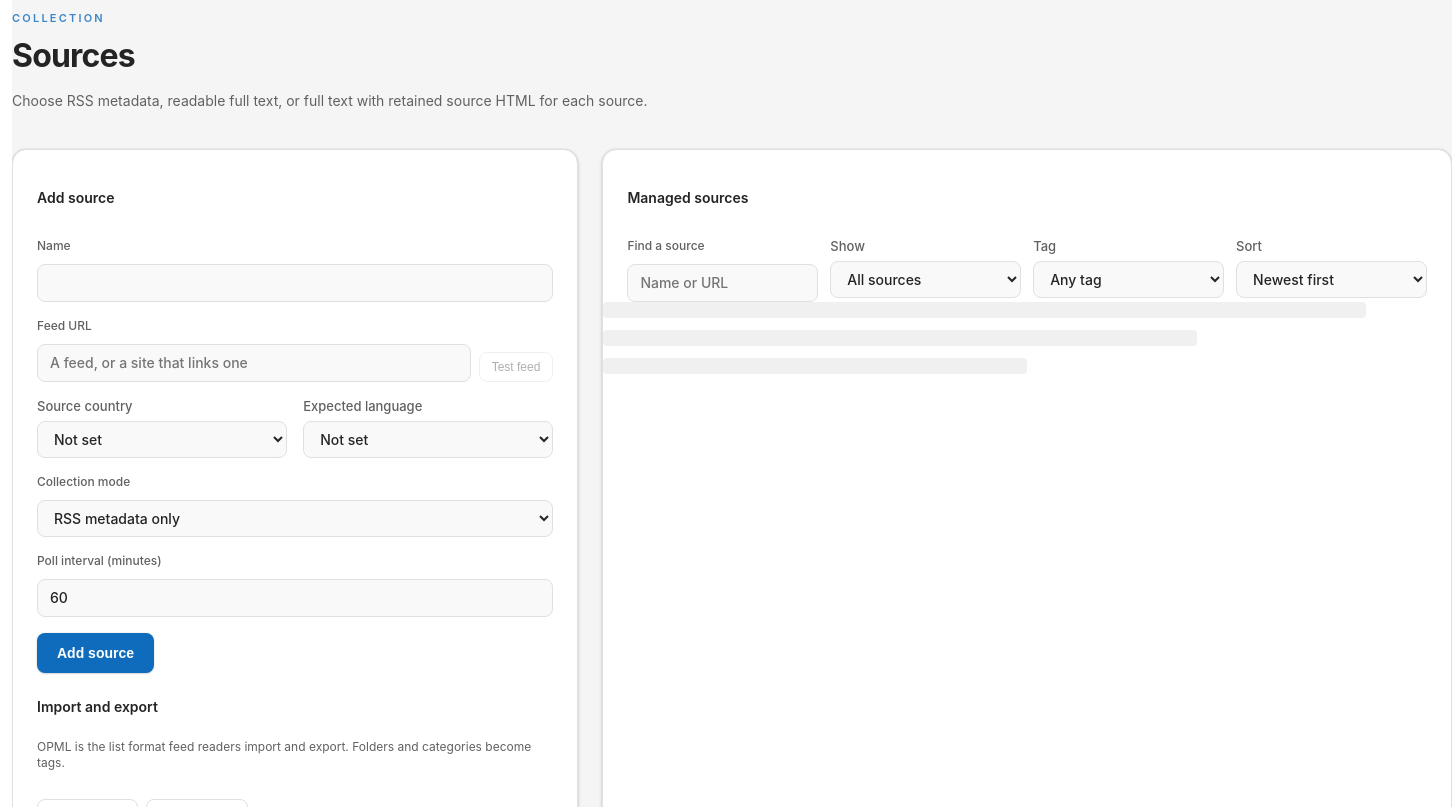
it: says why a feed address did not work
Type "https://news.example/nothing" into the field labelled "Feed URL" at (254, 363), box 37,344 -> 471,382
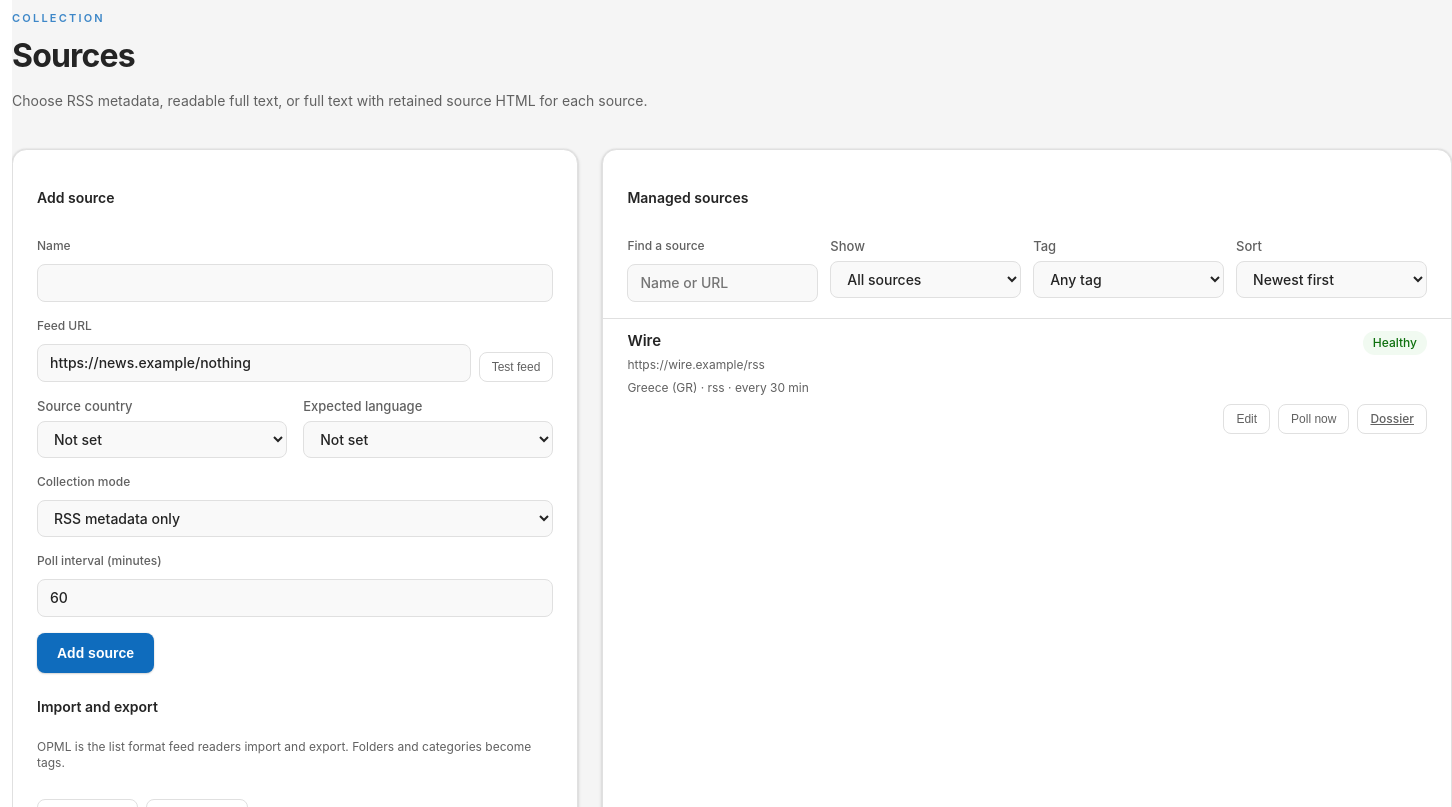
Click the button "Test feed" at (516, 367), box 479,352 -> 553,382
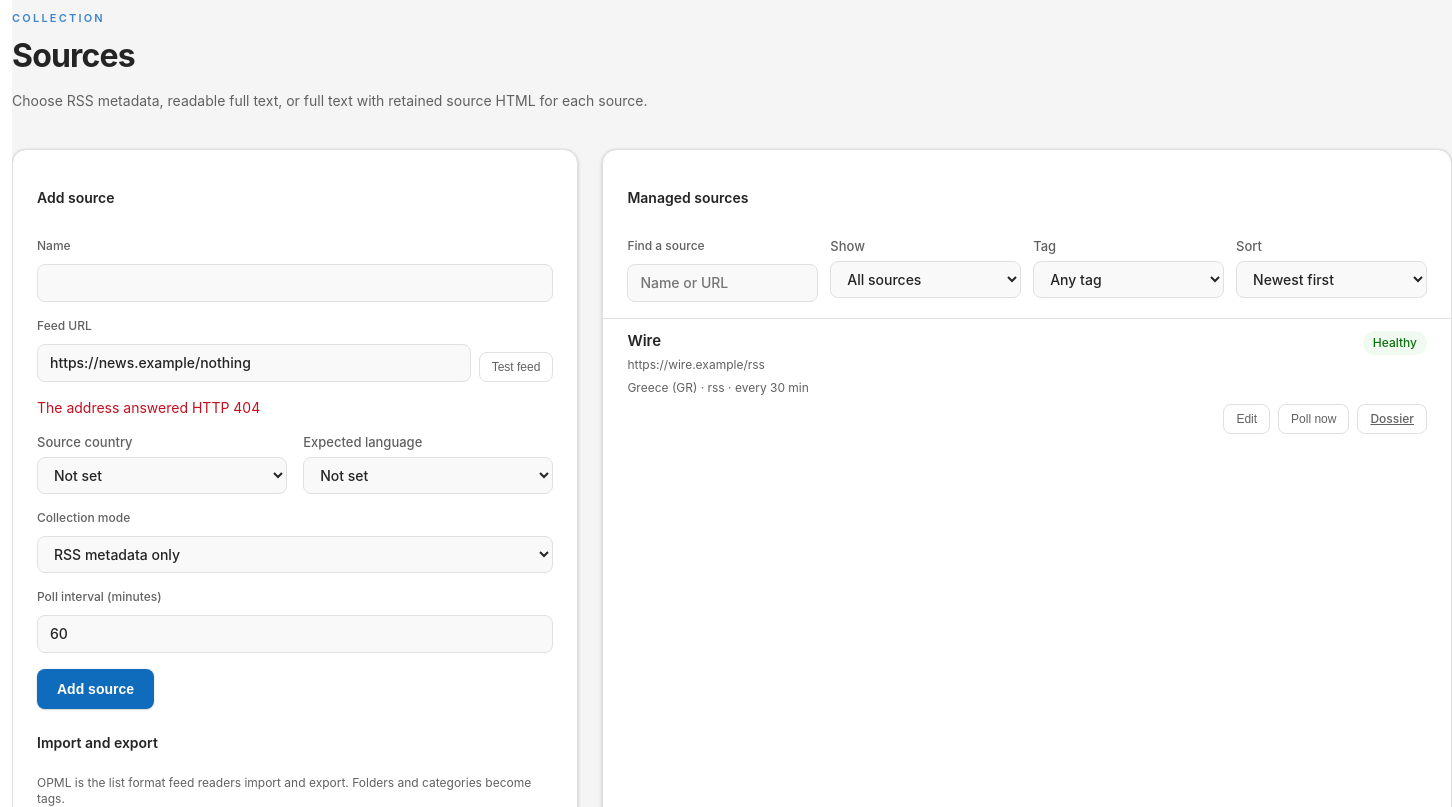
Result: the message reads "The address answered HTTP 404" at 37,399 -> 260,416
